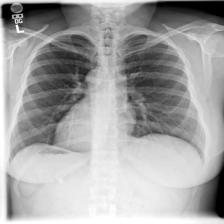normal: (7, 28, 209, 169)
